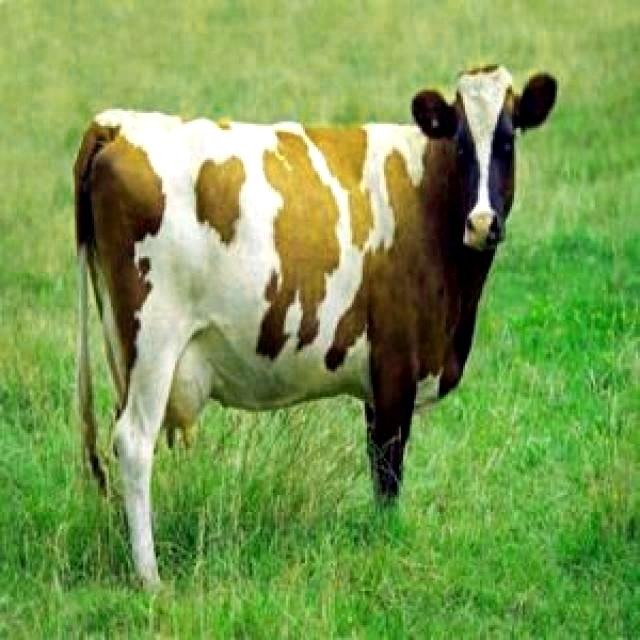COW: (75, 66, 555, 585)
